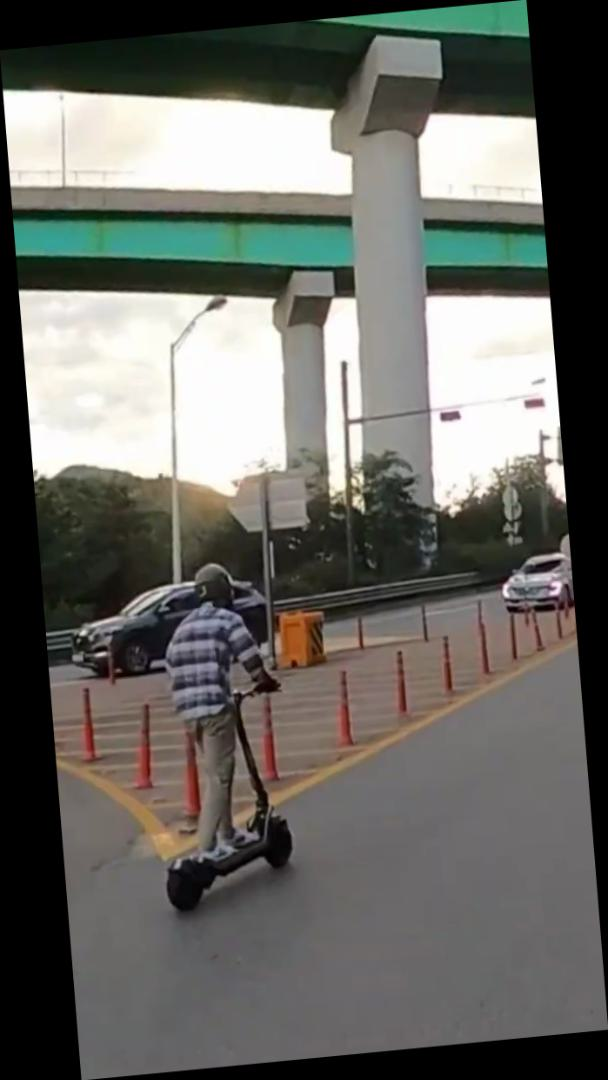helmet: (137, 552, 302, 920)
